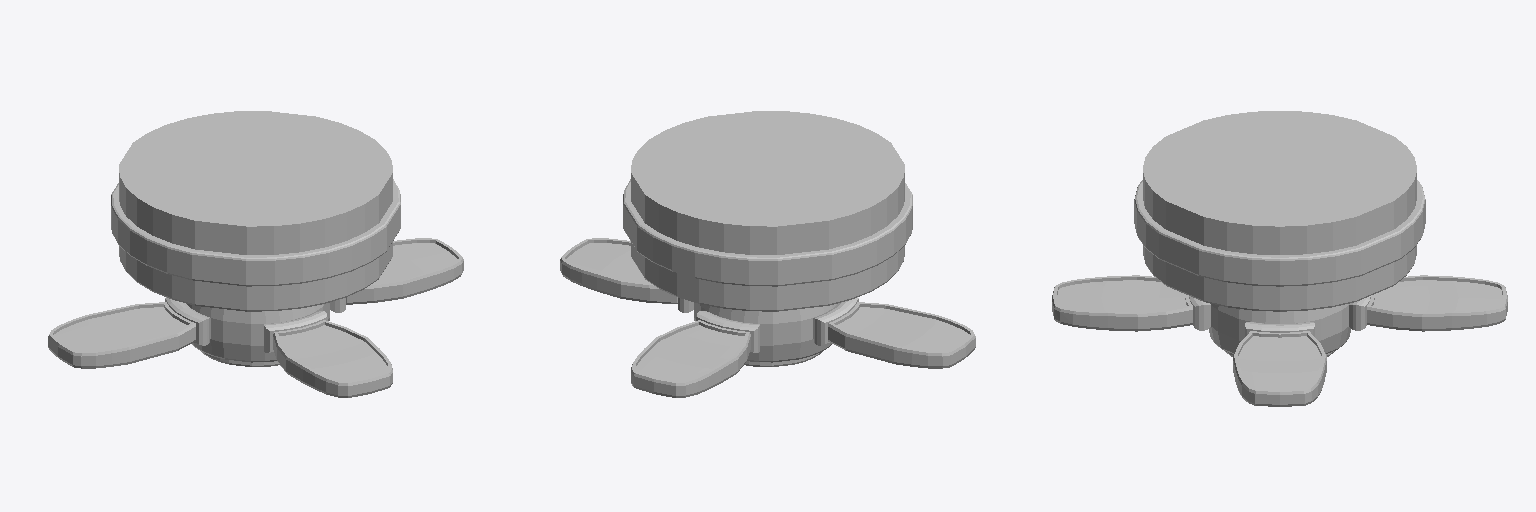
File: Platform.obj
3 renders of one model, left to right at view 1: azimuth 30°, elevation 25°; view 2: azimuth 150°, elevation 25°; view 3: azimuth 270°, elevation 25°, orthographic.
Parts seen in each view (by area): view 1: Cylinder; view 2: Cylinder; view 3: Cylinder.
Boxes of the visible parts, x1=… form: Cylinder: x1=48, y1=111, x2=463, y2=397; Cylinder: x1=560, y1=111, x2=975, y2=397; Cylinder: x1=1052, y1=111, x2=1507, y2=406.
Bounding box in the file's own units: 3.32 × 1.4 × 3.32.